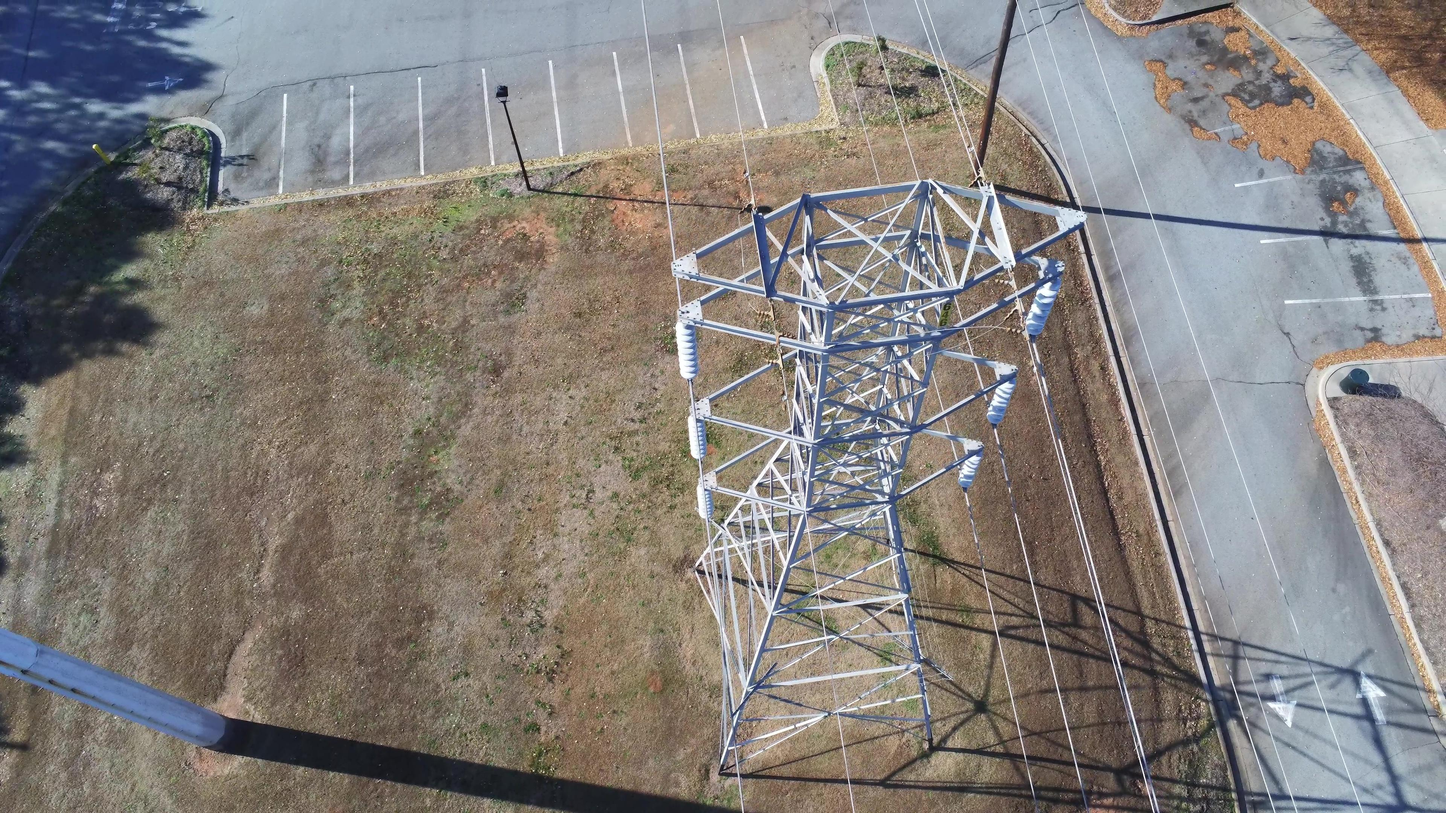power_tower: (670, 178, 1088, 775)
